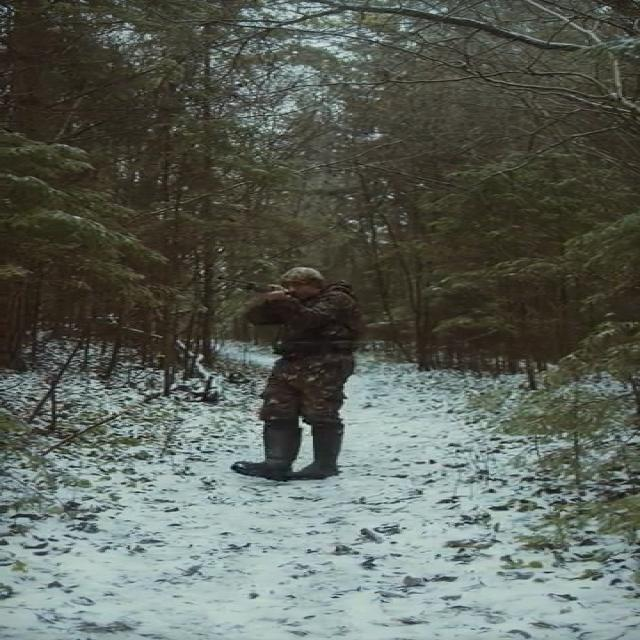Gun_Holder: (185, 268, 298, 303)
Person: (250, 263, 372, 489)
